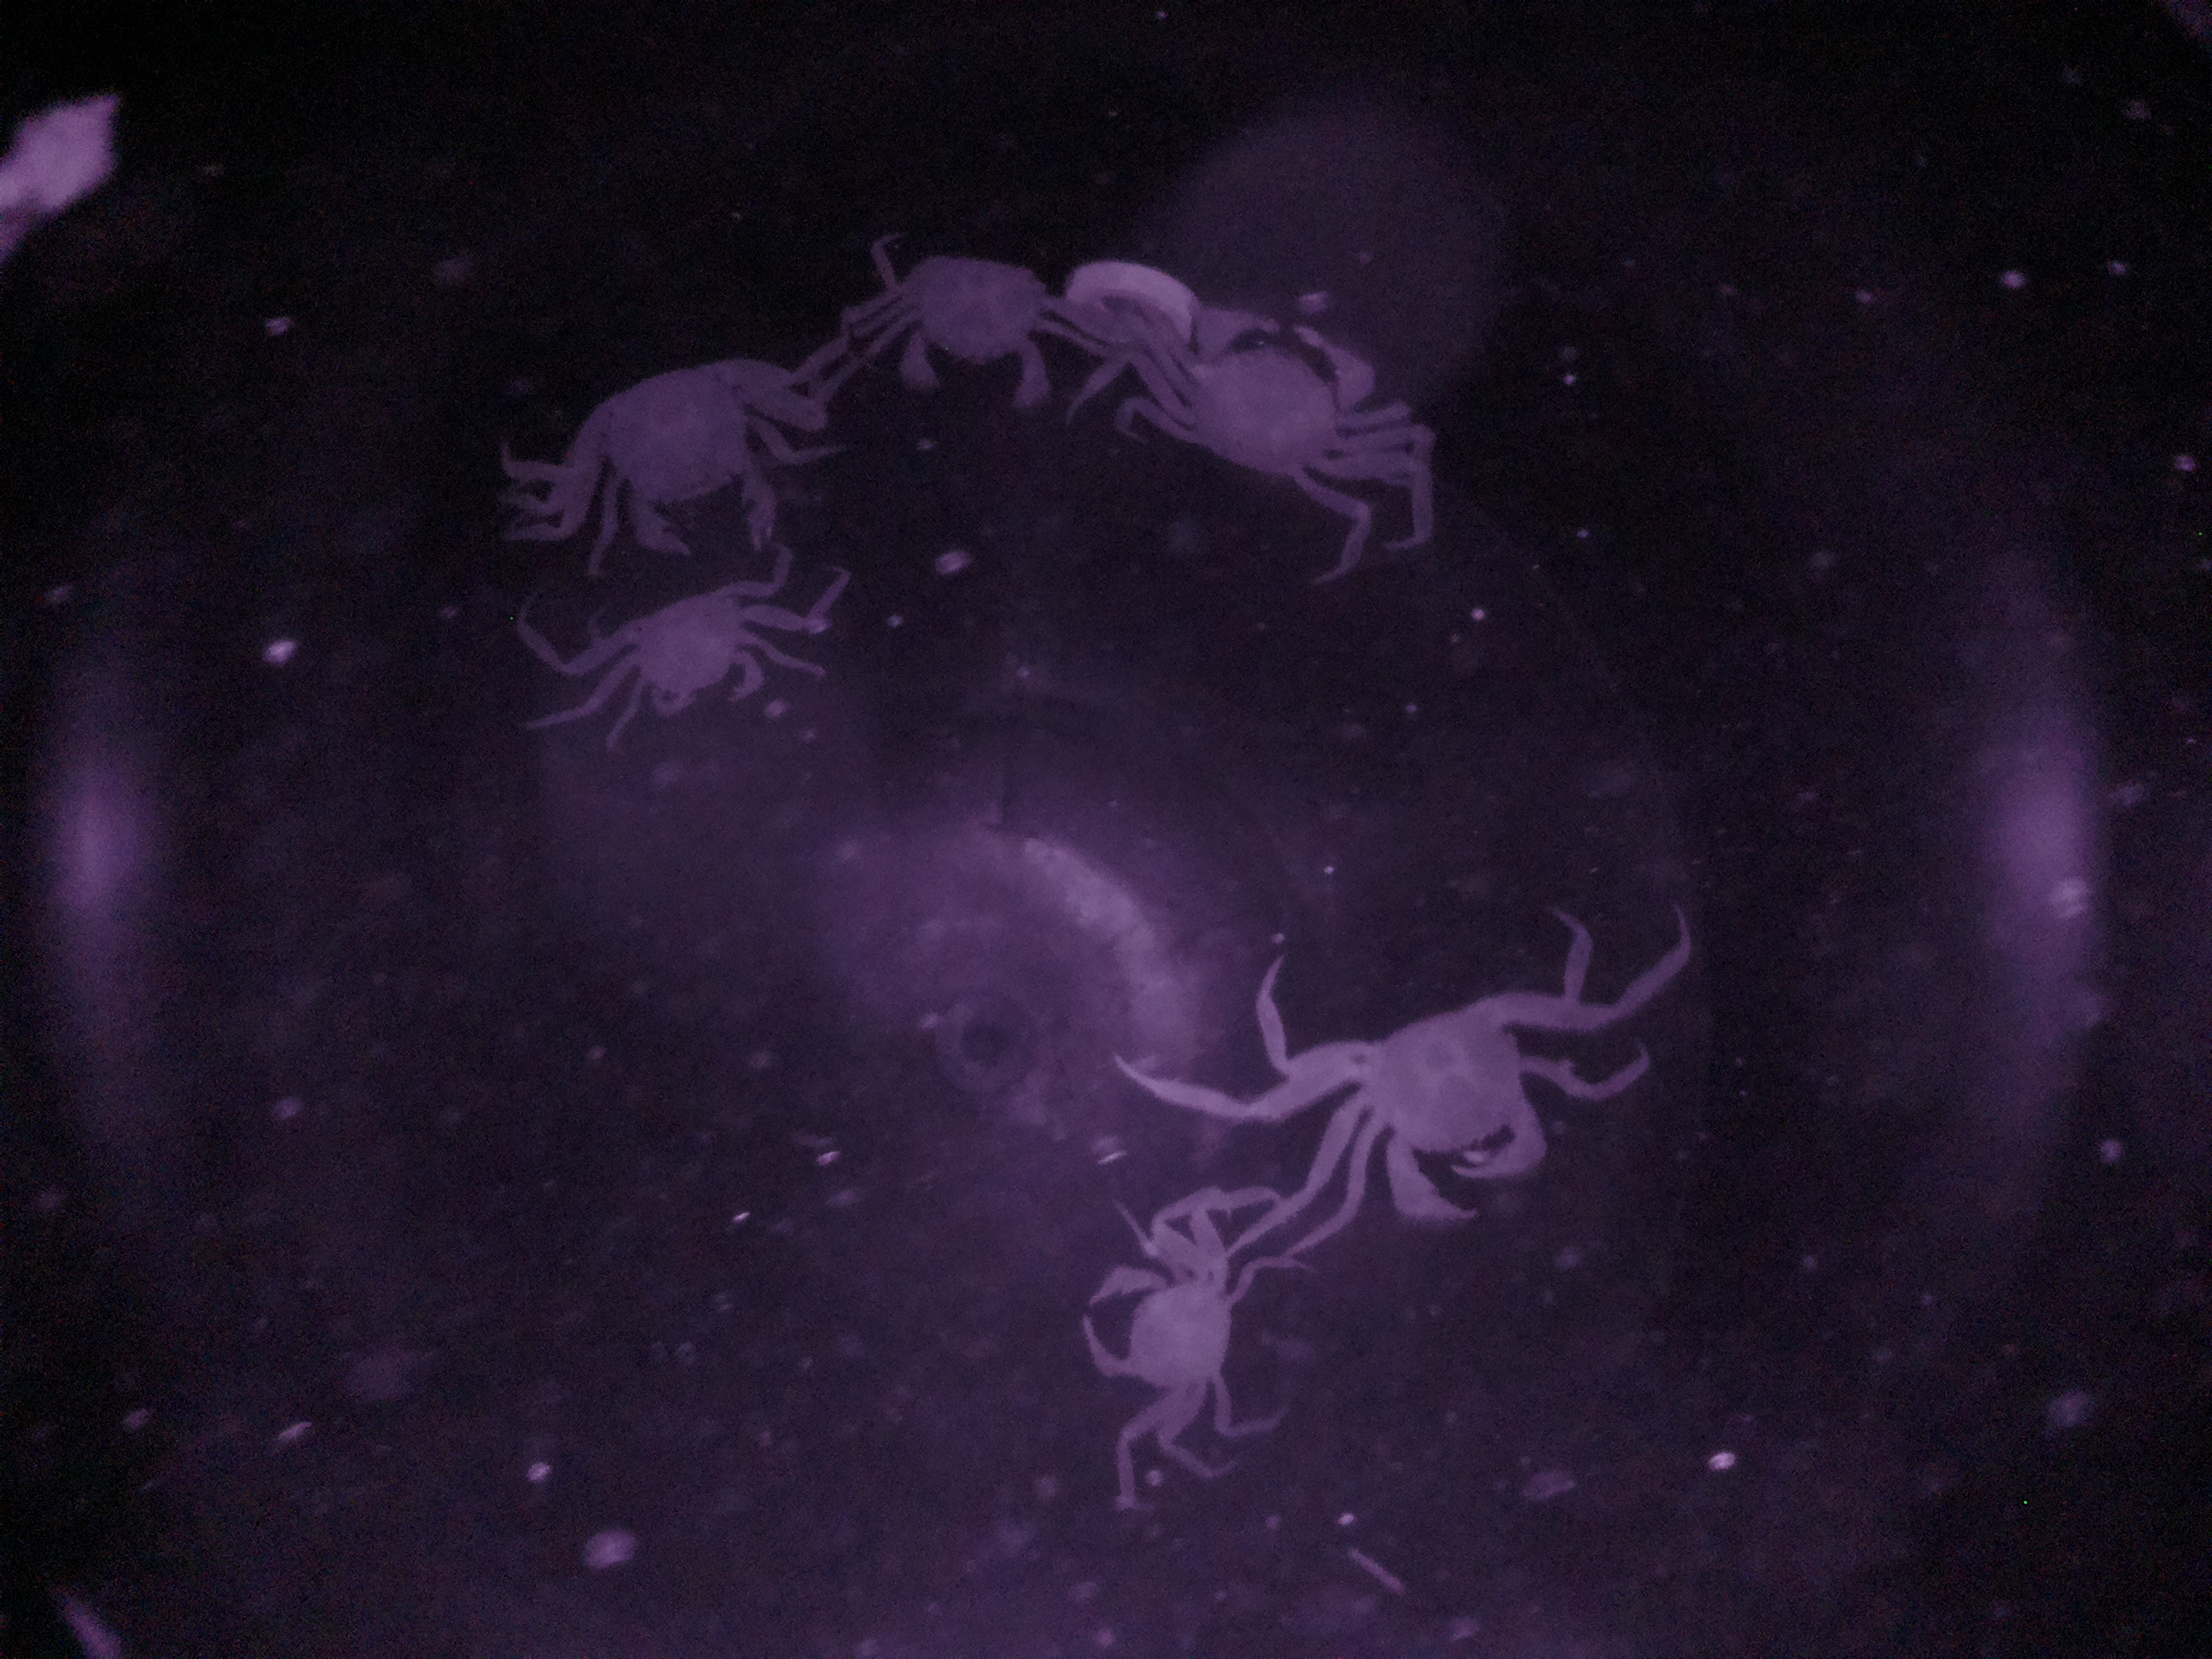Crab: (1303, 981, 1552, 1225), (1136, 298, 1399, 505), (552, 350, 806, 559), (876, 247, 1089, 432), (1073, 1225, 1249, 1419), (611, 582, 773, 737)
